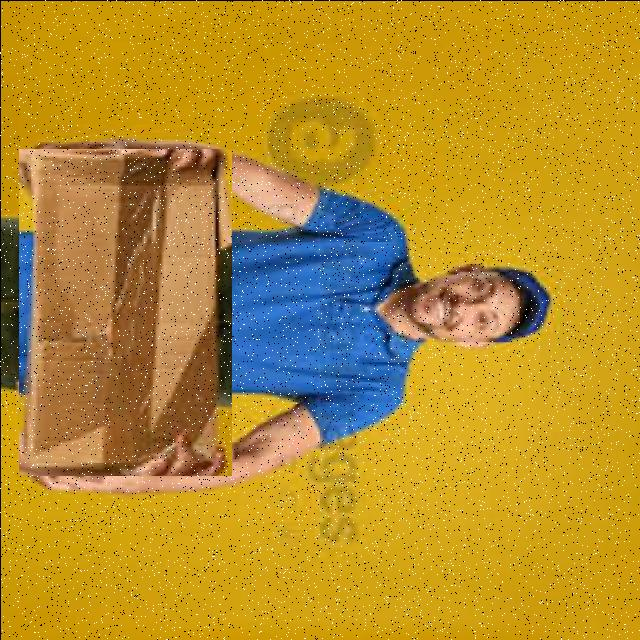defect: (18, 148, 231, 475)
